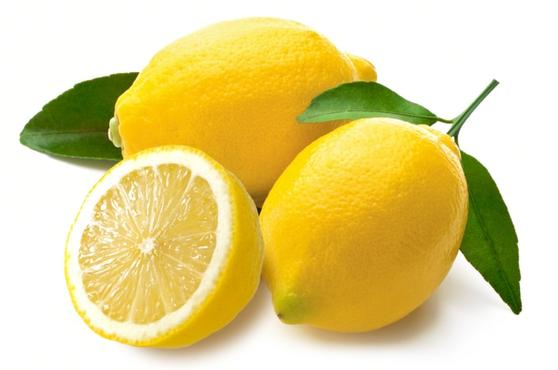lemon: (261, 105, 475, 336)
